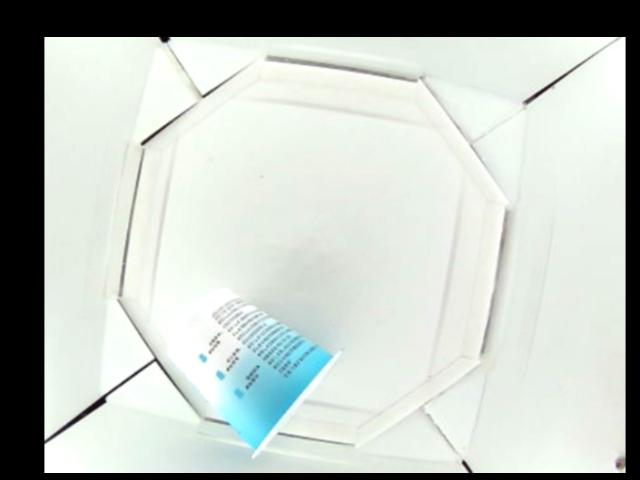Cup: (168, 284, 339, 455)
